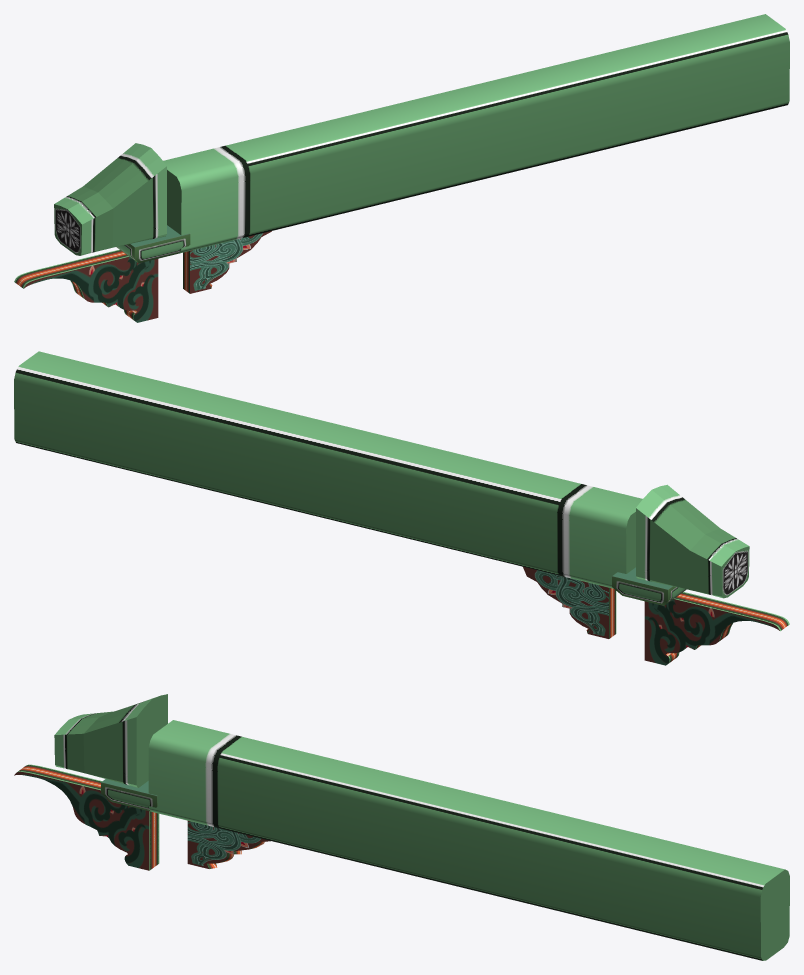
The model's file is SM_R_Beam_11.fbx.
3 views of the same model, one above another, from view 1: azimuth 30°, elevation 25°; view 2: azimuth 150°, elevation 25°; view 3: azimuth 330°, elevation 25° (orthographic).
Visible parts, largest first — view 1: SM_R_Beam_11; view 2: SM_R_Beam_11; view 3: SM_R_Beam_11.
Boxes of the visible parts, left/top/right/bottom form: SM_R_Beam_11: left=14, top=14, right=789, bottom=322; SM_R_Beam_11: left=14, top=351, right=789, bottom=665; SM_R_Beam_11: left=14, top=694, right=789, bottom=960.
Bounding box in the file's own units: 413 × 32.84 × 87.18.
3 materials, 3 textured.
